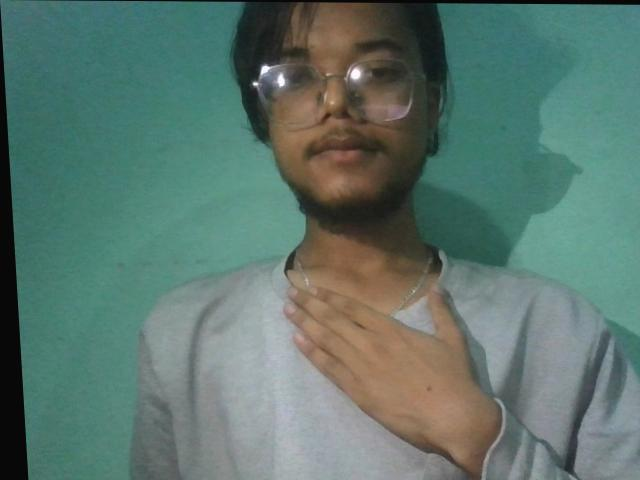Please: (209, 227, 585, 474)
